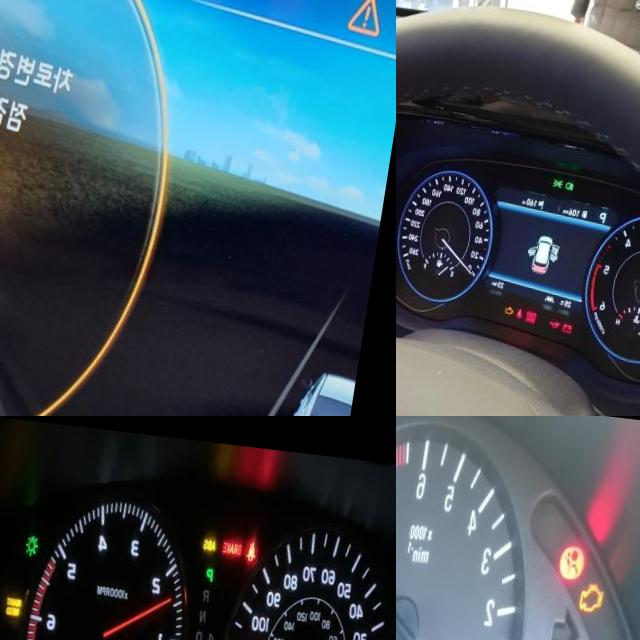Central Warning lamp: (349, 0, 388, 23)
Low beam: (572, 170, 582, 180)
SideLamp: (560, 167, 571, 178)
